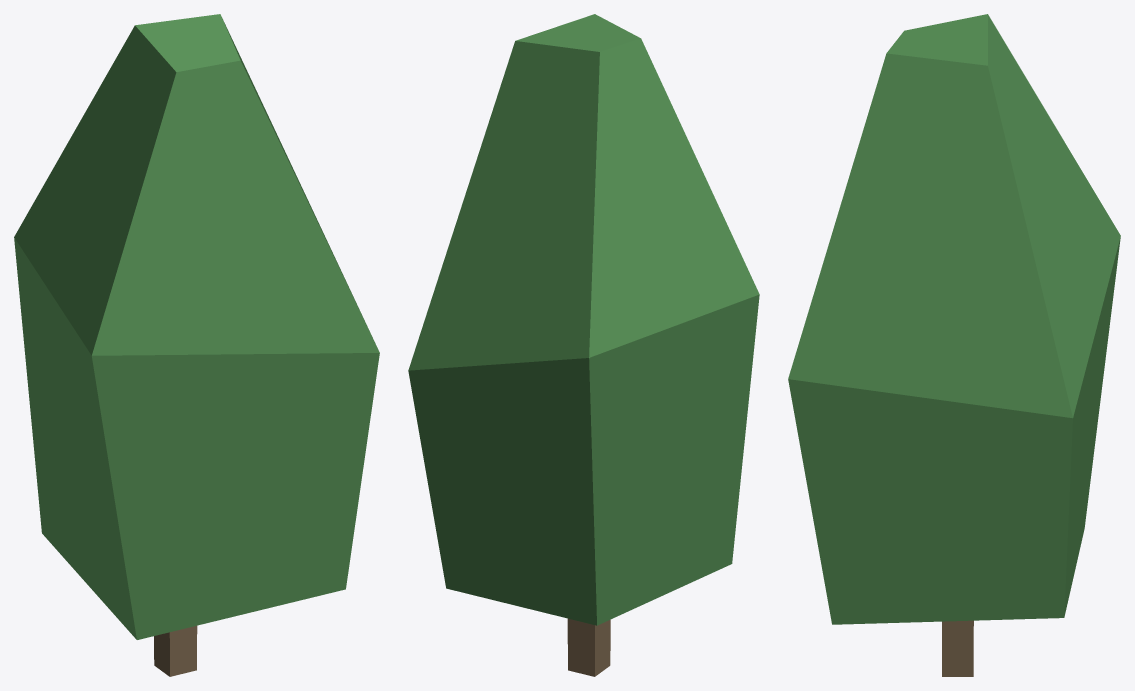
File: tree_04.fbx
3 views of the same model, side by side, from view 1: azimuth 30°, elevation 25°; view 2: azimuth 150°, elevation 25°; view 3: azimuth 270°, elevation 25° (orthographic).
Parts seen in each view (by area): view 1: pasted__pasted__pasted__pCube6; view 2: pasted__pasted__pasted__pCube6; view 3: pasted__pasted__pasted__pCube6.
Part boxes in pixels (<box>): pasted__pasted__pasted__pCube6: <box>14,14,379,676</box>; pasted__pasted__pasted__pCube6: <box>408,14,759,676</box>; pasted__pasted__pasted__pCube6: <box>788,14,1120,676</box>.
Size of the model in its own units: 0.5981 by 1.44 by 0.6752.
